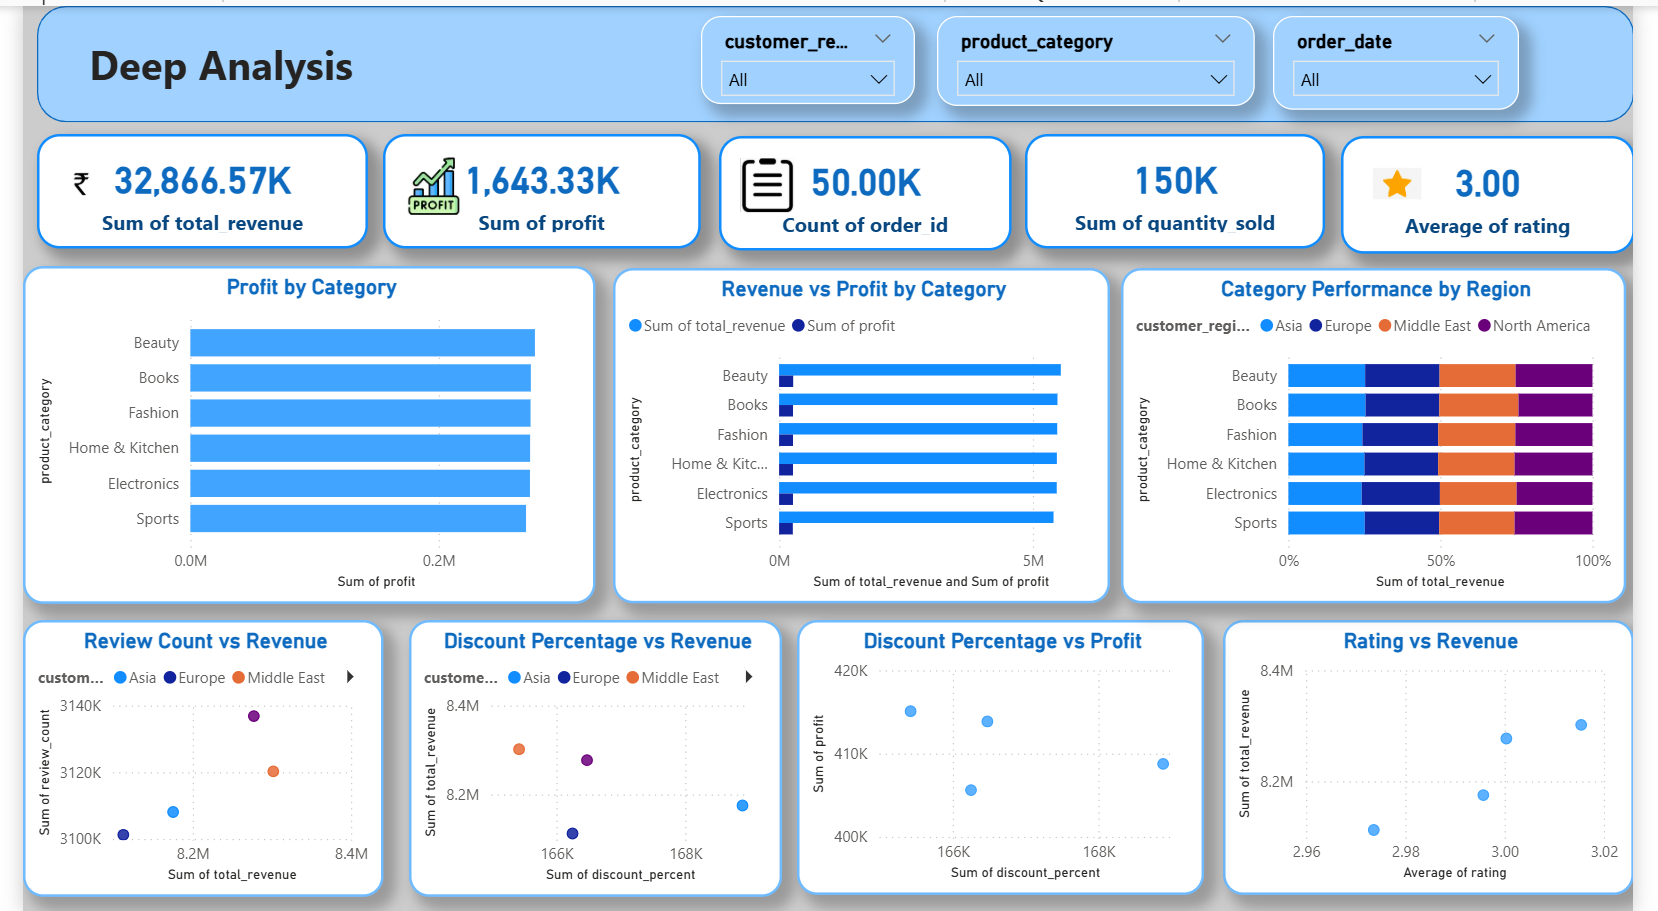

Layout of this report page (visuals, bound fields, positions):
{"tool":"powerbi","page":{"name":"Deep Analysis","canvas":[1280,720],"ordinal":1},"visuals":[{"type":"shape","box":[10.8,0,1269.2,92.3],"z":0},{"type":"textbox","box":[29.2,4.6,276.9,76.9],"z":1000},{"type":"slicer","fields":{"Values":["Amazon_dataset.customer_region"]},"box":[383.1,10.8,170.8,70.8],"z":2000},{"type":"slicer","fields":{"Values":["Amazon_dataset.product_category"]},"box":[626.2,9.2,252.3,72.3],"z":3000},{"type":"slicer","fields":{"Values":["Amazon_dataset.order_date"]},"box":[916.9,10.8,195.4,75.4],"z":4000},{"type":"card","fields":{"Values":["Sum(Amazon_dataset.total_revenue)"]},"box":[10.8,101.5,263.1,90.8],"z":5000},{"type":"card","fields":{"Values":["Sum(Amazon_dataset.profit)"]},"box":[286.2,101.5,252.3,90.8],"z":6000},{"type":"card","fields":{"Values":["CountNonNull(Amazon_dataset.order_id)"]},"box":[553.8,103.1,232.3,90.8],"z":7000},{"type":"card","fields":{"Values":["Sum(Amazon_dataset.quantity_sold)"]},"box":[796.9,101.5,238.5,90.8],"z":8000},{"type":"card","fields":{"Values":["Avg(Amazon_dataset.rating)"]},"box":[1046.7,103.3,233.3,93.3],"z":9000},{"type":"image","box":[29.2,120,35.4,41.5],"z":10000},{"type":"image","box":[306.7,118.3,43.3,56.7],"z":11000},{"type":"image","box":[578.3,120,48.3,43.3],"z":12000},{"type":"image","box":[1073.3,118.3,38.3,46.7],"z":13000},{"type":"barChart","title":"Profit by Category","fields":{"Y":["Sum(Amazon_dataset.profit)"],"Category":["Amazon_dataset.product_category"]},"box":[0,206.7,455,268.3],"z":14000},{"type":"clusteredBarChart","title":"Revenue vs Profit by Category","fields":{"Category":["Amazon_dataset.product_category"],"Y":["Sum(Amazon_dataset.total_revenue)","Sum(Amazon_dataset.profit)"]},"box":[468.3,208.3,395,266.7],"z":15000},{"type":"scatterChart","title":"Rating vs Revenue","fields":{"X":["Avg(Amazon_dataset.rating)"],"Y":["Sum(Amazon_dataset.total_revenue)"]},"box":[953.3,488.3,326.7,218.3],"z":16000},{"type":"scatterChart","title":"Review Count vs Revenue","fields":{"X":["Sum(Amazon_dataset.total_revenue)"],"Y":["Sum(Amazon_dataset.review_count)"]},"box":[0,488.3,286.7,220],"z":17000},{"type":"scatterChart","title":"Discount Percentage vs Revenue","fields":{"X":["Sum(Amazon_dataset.discount_percent)"],"Y":["Sum(Amazon_dataset.total_revenue)"]},"box":[306.7,488.3,296.7,220],"z":18000},{"type":"scatterChart","title":"Discount Percentage vs Profit","fields":{"X":["Sum(Amazon_dataset.discount_percent)"],"Y":["Sum(Amazon_dataset.profit)"]},"box":[615,488.3,323.3,218.3],"z":19000},{"type":"hundredPercentStackedBarChart","title":"Category Performance by Region","fields":{"Category":["Amazon_dataset.product_category"],"Series":["Amazon_dataset.customer_region"],"Y":["Sum(Amazon_dataset.total_revenue)"]},"box":[873.3,208.3,401.7,266.7],"z":20000}]}

Visuals, with their boxes in screenshot pixels (x1, y1, x2, y2), scaled from the page's 1280x720 canvas onto the 1658x911 screenshot:
shape: <region>14, 0, 1657, 117</region>
textbox: <region>38, 6, 396, 103</region>
slicer - Amazon_dataset.customer_region: <region>496, 14, 717, 103</region>
slicer - Amazon_dataset.product_category: <region>811, 12, 1138, 103</region>
slicer - Amazon_dataset.order_date: <region>1188, 14, 1441, 109</region>
card - Sum(Amazon_dataset.total_revenue): <region>14, 128, 355, 243</region>
card - Sum(Amazon_dataset.profit): <region>371, 128, 698, 243</region>
card - CountNonNull(Amazon_dataset.order_id): <region>717, 130, 1018, 245</region>
card - Sum(Amazon_dataset.quantity_sold): <region>1032, 128, 1341, 243</region>
card - Avg(Amazon_dataset.rating): <region>1356, 131, 1657, 249</region>
image: <region>38, 152, 84, 204</region>
image: <region>397, 150, 453, 221</region>
image: <region>749, 152, 812, 207</region>
image: <region>1390, 150, 1440, 209</region>
"Profit by Category" barChart: <region>0, 262, 589, 601</region>
"Revenue vs Profit by Category" clusteredBarChart: <region>607, 264, 1118, 601</region>
"Rating vs Revenue" scatterChart: <region>1235, 618, 1657, 894</region>
"Review Count vs Revenue" scatterChart: <region>0, 618, 371, 896</region>
"Discount Percentage vs Revenue" scatterChart: <region>397, 618, 782, 896</region>
"Discount Percentage vs Profit" scatterChart: <region>797, 618, 1215, 894</region>
"Category Performance by Region" hundredPercentStackedBarChart: <region>1131, 264, 1652, 601</region>
